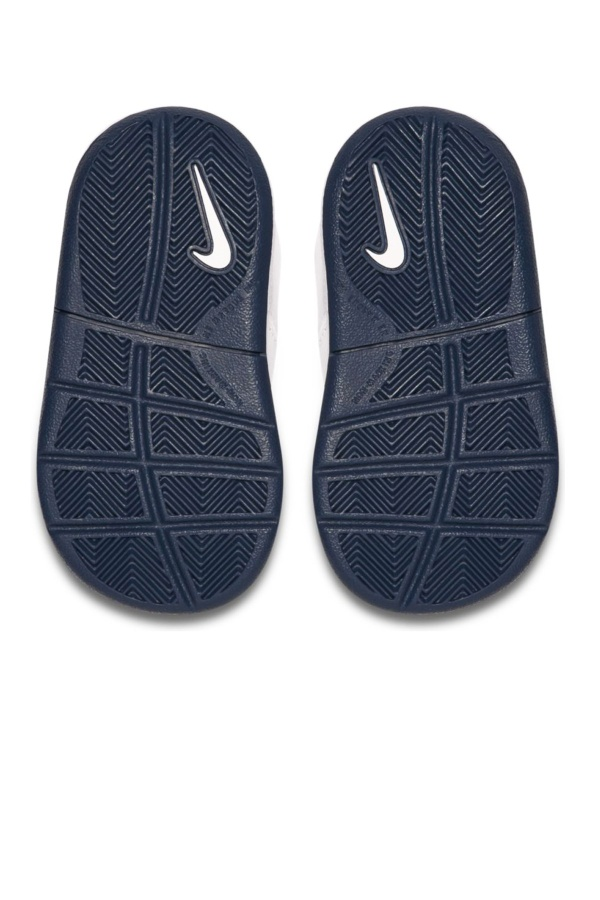nike: (170, 159, 245, 275), (357, 160, 414, 284)
